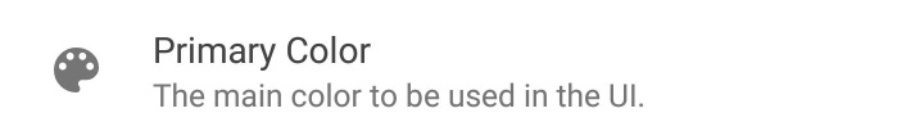CheckedTextView: (1, 1, 923, 139)
